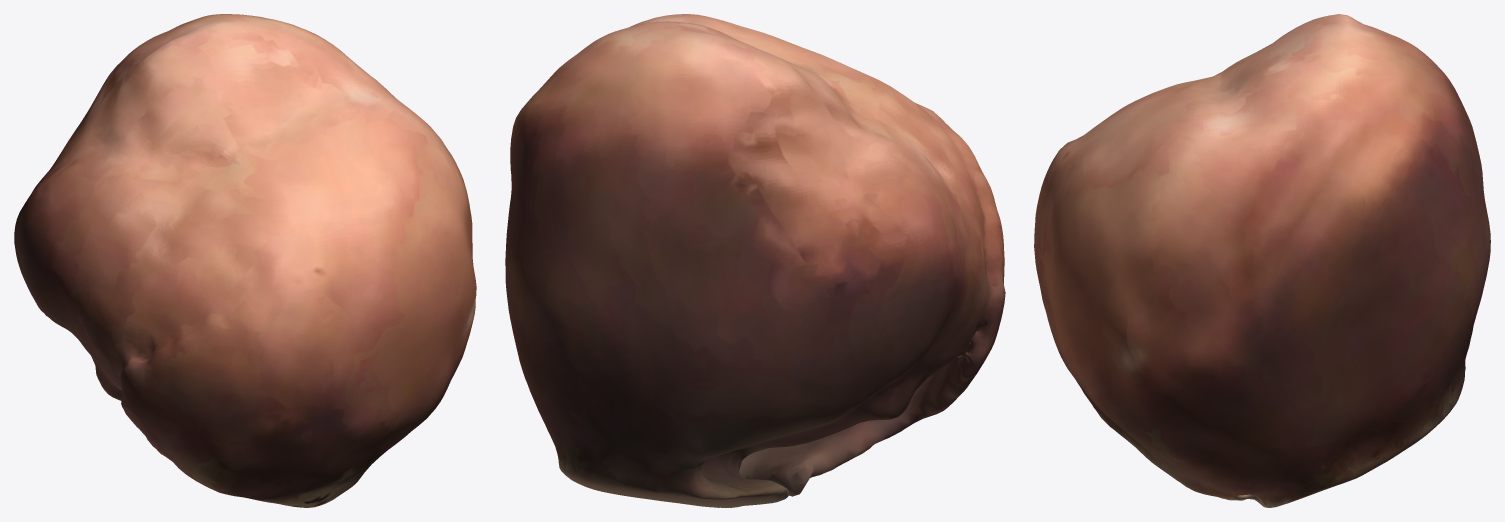
Rendered from Haselnuss.fbx.
3 renders of one model, left to right at view 1: azimuth 30°, elevation 25°; view 2: azimuth 150°, elevation 25°; view 3: azimuth 270°, elevation 25°, orthographic. The views are drawn at different scales.
Parts seen in each view (by area): view 1: Haselnuss_new_tex; view 2: Haselnuss_new_tex; view 3: Haselnuss_new_tex.
Part boxes in pixels (x1,y1,x2,y2): Haselnuss_new_tex: (14, 14, 476, 507); Haselnuss_new_tex: (505, 14, 1005, 507); Haselnuss_new_tex: (1034, 14, 1490, 507).
Size of the model in its own units: 1.53 by 1.72 by 1.57.
1 material, 1 textured.
